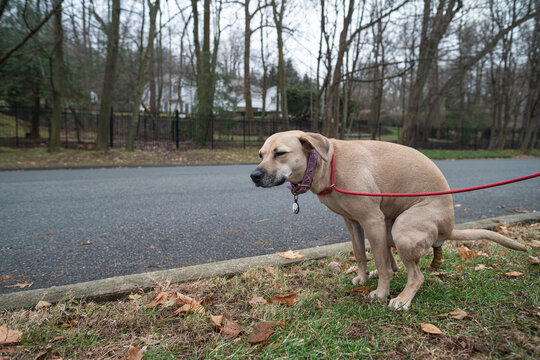dog_pooping: (248, 127, 530, 315)
